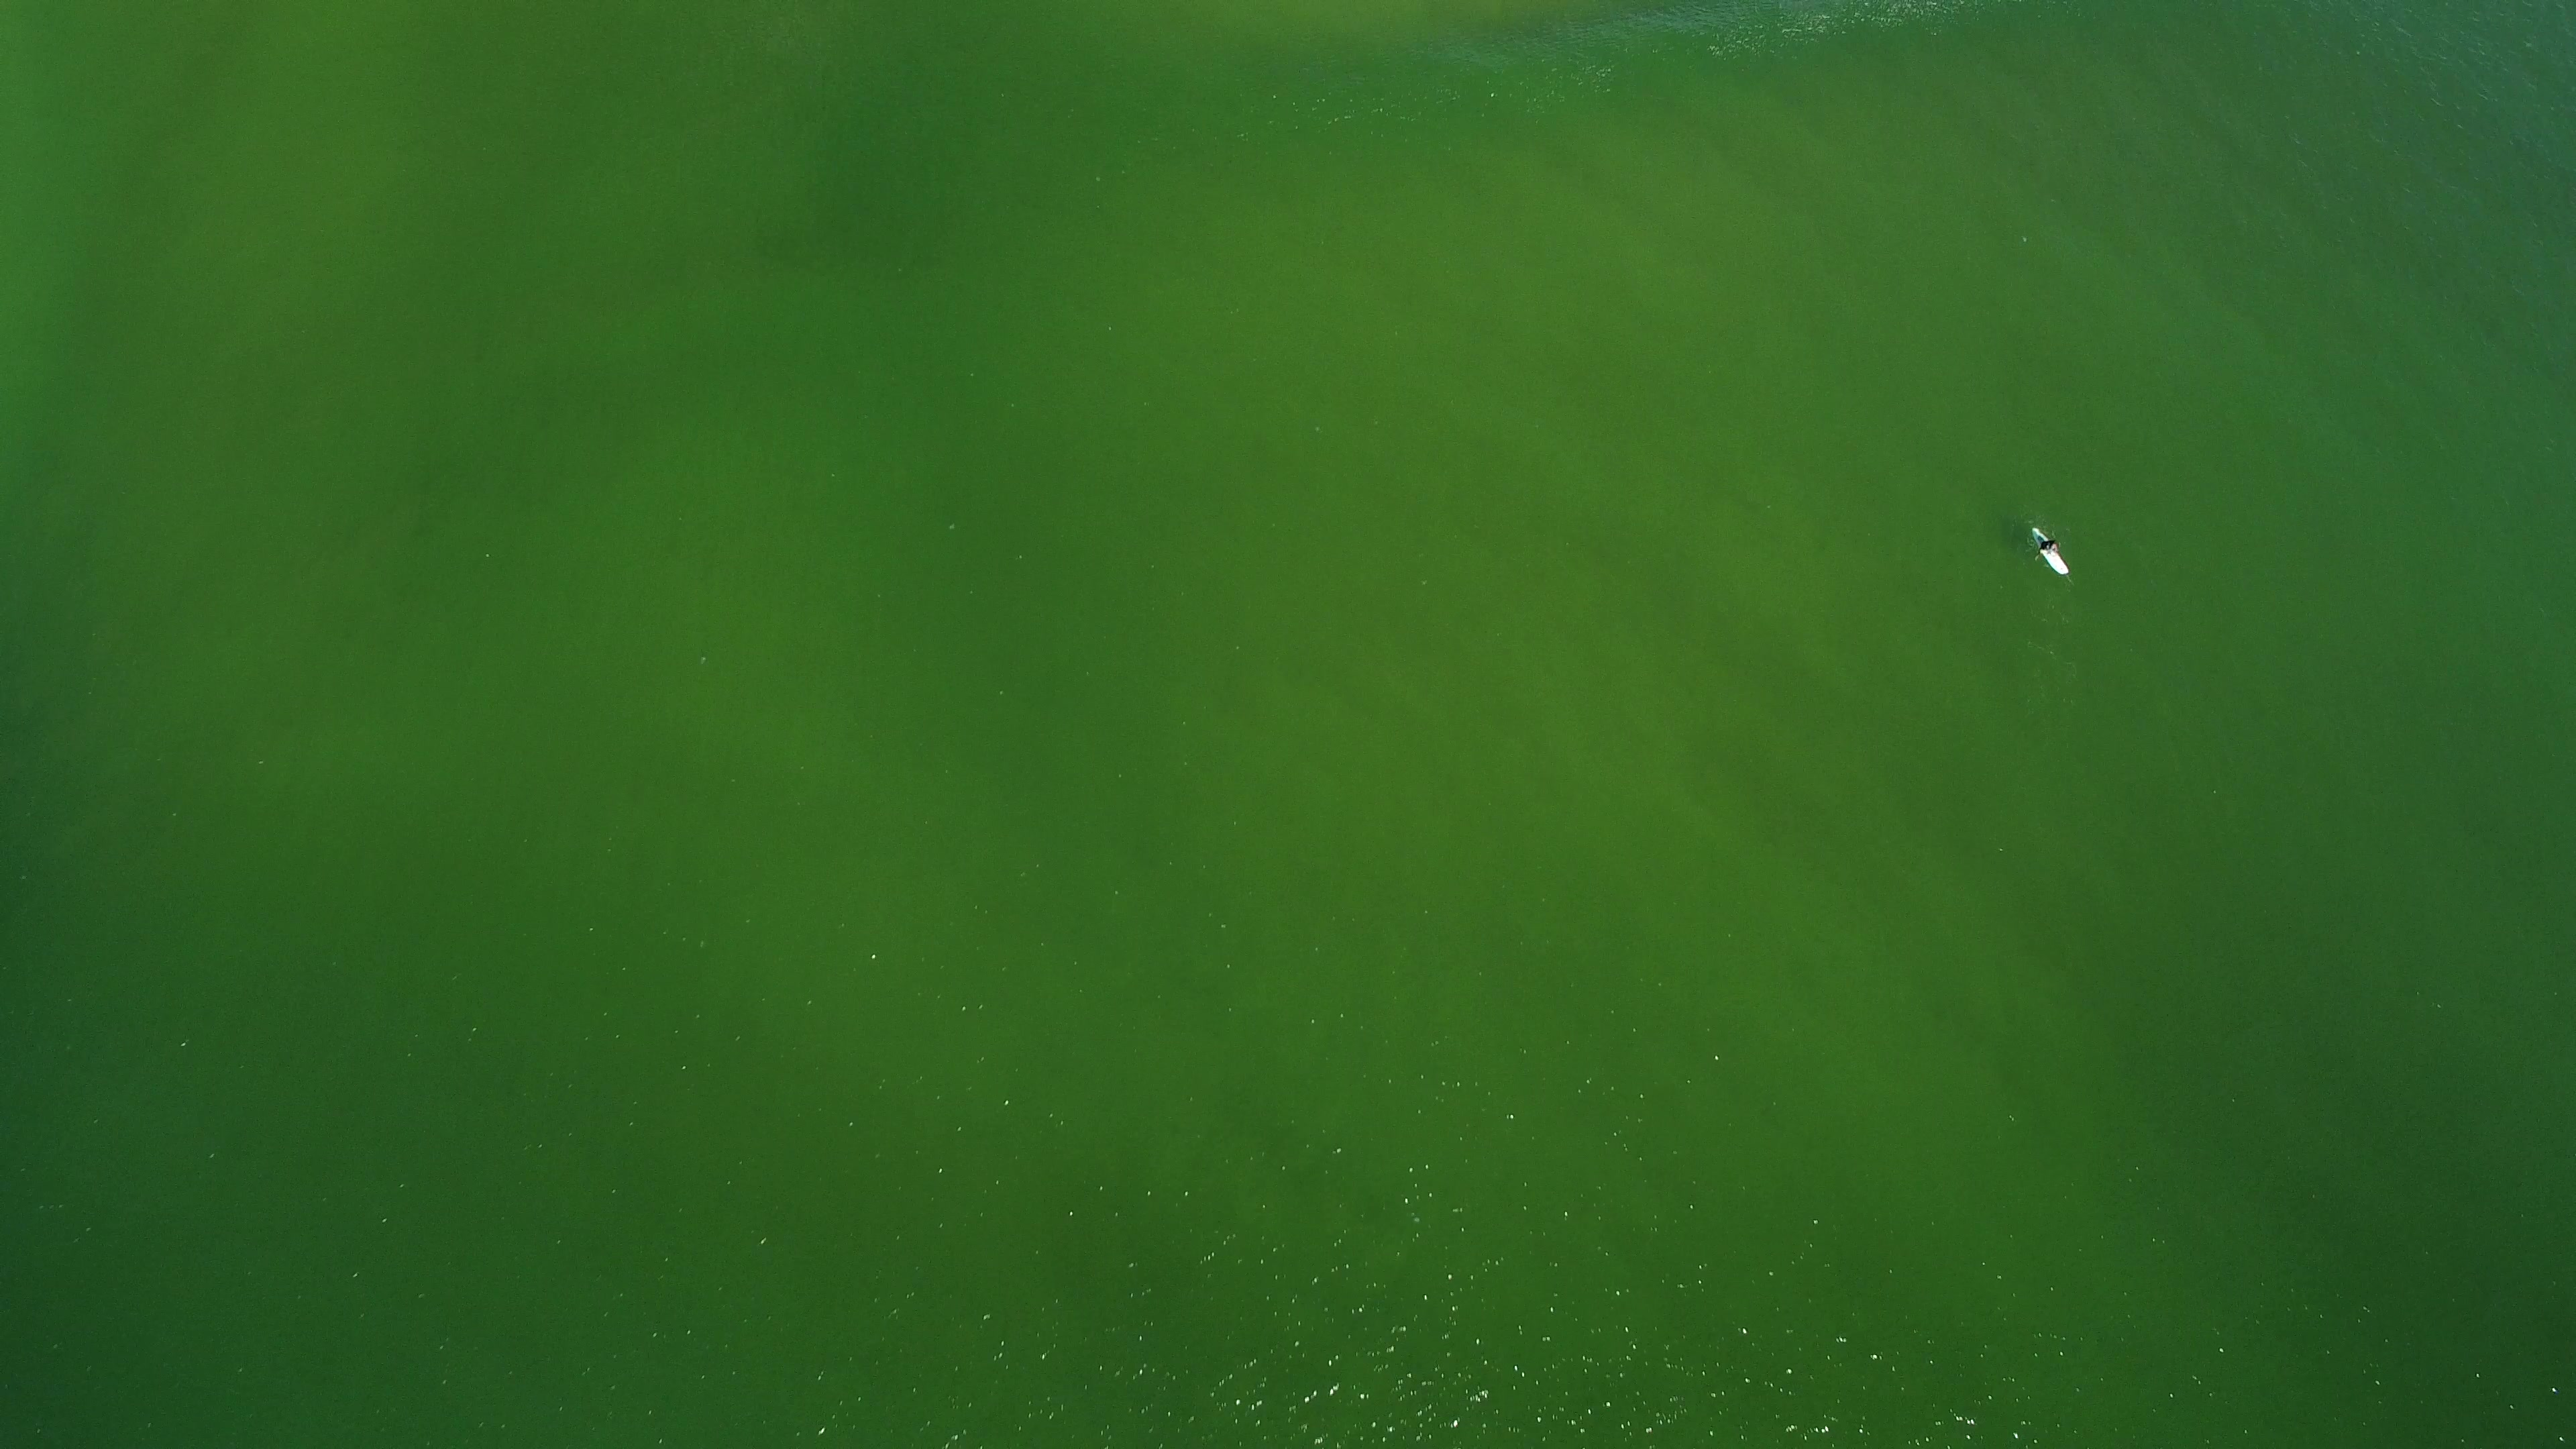surfer: (2020, 513, 2081, 584)
